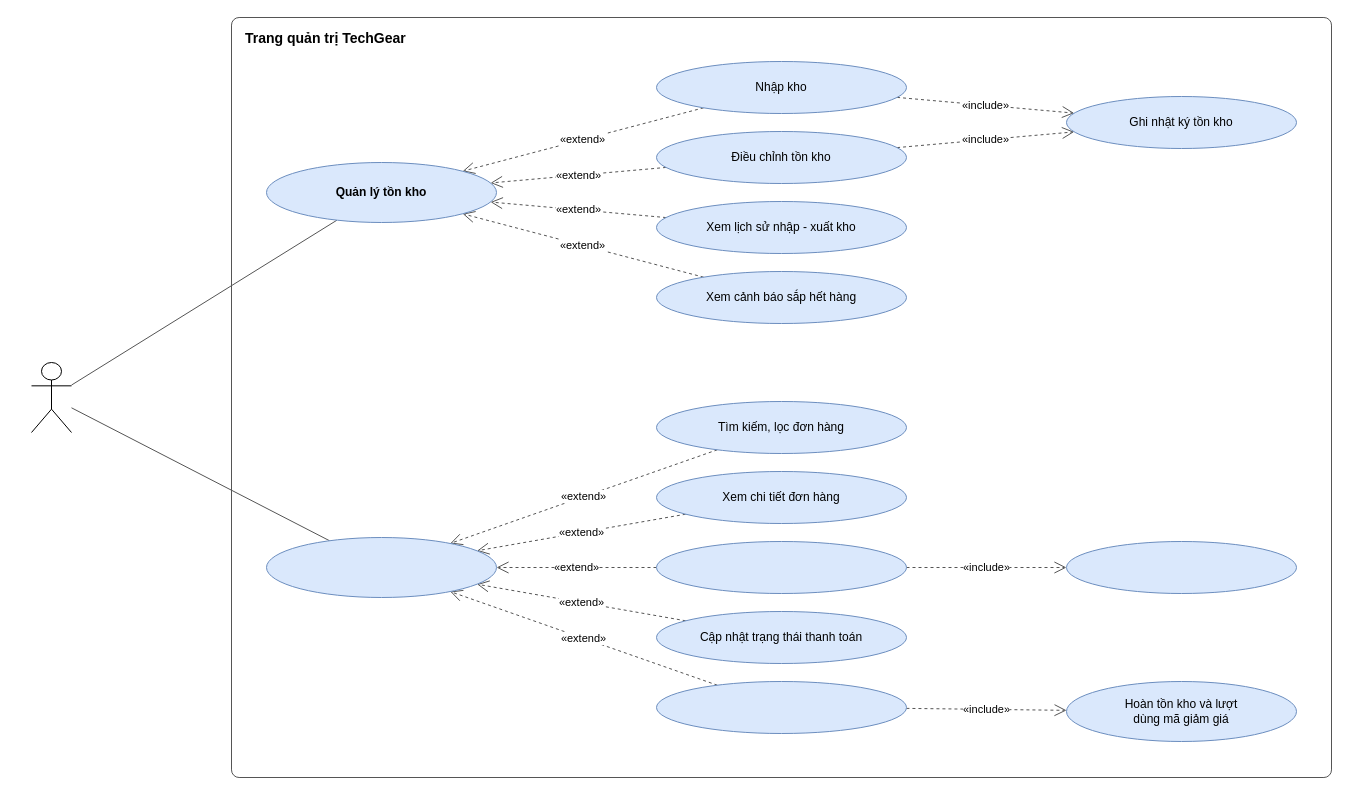
Some shapes in this 1349 by 795 pixel diagram are drawn without their labels. The shapes that lost their labels are listed below. From the top down, each one's centre as x and y in pixels, then its label:
At pixel 51 397: "Quản trị viên".
At pixel 381 567: "Quản lý đơn hàng".
At pixel 781 567: "Cập nhật trạng thái đơn hàng".
At pixel 1181 567: "Ghi lịch sử trạng thái".
At pixel 781 707: "Hủy đơn hàng".
